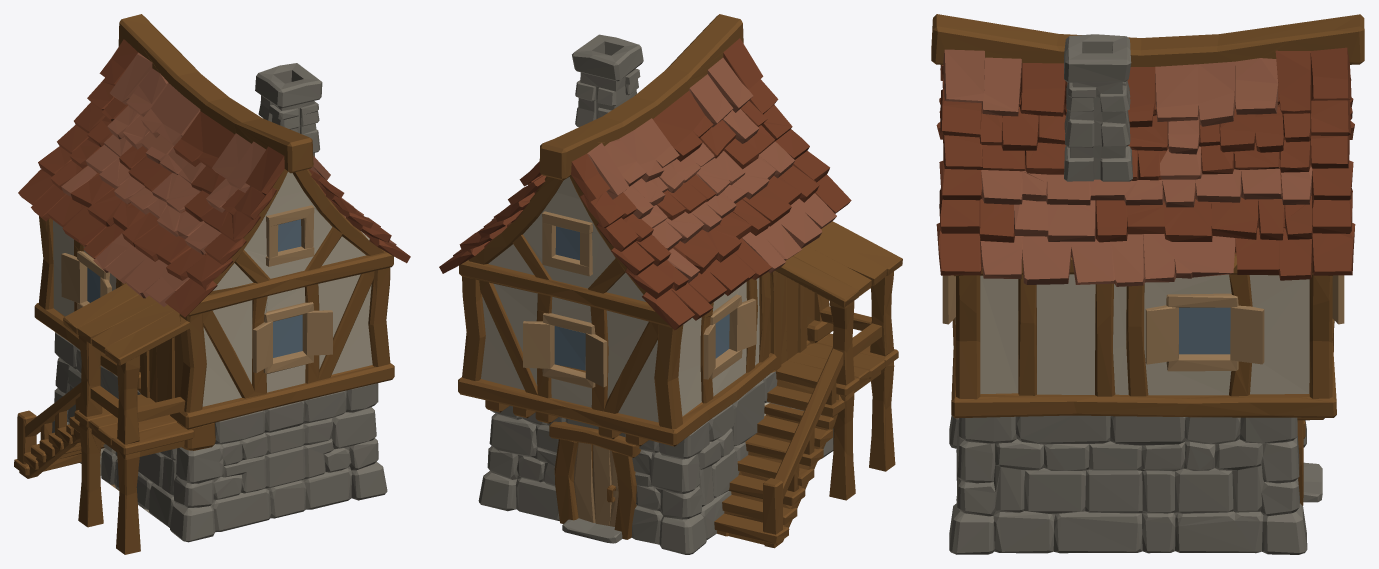
Rendered from TwoStoryMedievalHouse.fbx.
3 renders of one model, left to right at view 1: azimuth 30°, elevation 25°; view 2: azimuth 150°, elevation 25°; view 3: azimuth 270°, elevation 25°, orthographic. The views are drawn at different scales.
Parts seen in each view (by area): view 1: TwoStoryMedievalHouse_LOD0; view 2: TwoStoryMedievalHouse_LOD0; view 3: TwoStoryMedievalHouse_LOD0.
Boxes of the visible parts, bbox=[...] form: TwoStoryMedievalHouse_LOD0: bbox=[14, 14, 410, 554]; TwoStoryMedievalHouse_LOD0: bbox=[439, 14, 902, 554]; TwoStoryMedievalHouse_LOD0: bbox=[931, 14, 1364, 554].
Size of what is drawn, in the model's own units: 7.34 by 7.47 by 9.21.
